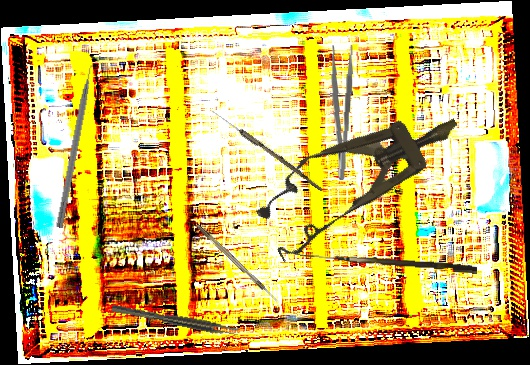Chopper: (55, 56, 106, 231)
Dressing Forceps: (323, 43, 356, 181)
Hook Surgical: (195, 223, 280, 304), (294, 253, 478, 274)
Speculum: (245, 85, 476, 265)
Surgical Spoon: (209, 108, 325, 192)
Tissue Forceps: (111, 300, 240, 339)
